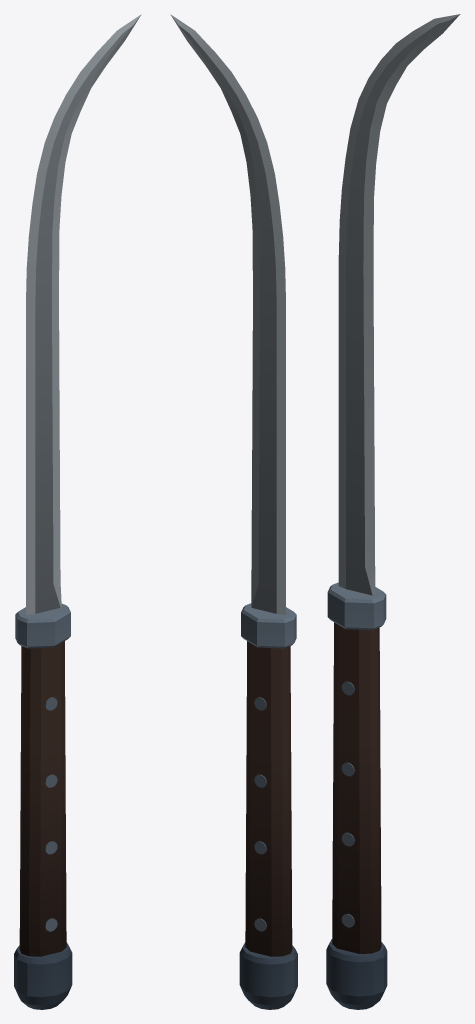
Rendered from SM_Sword06_Falx_1.fbx.
The picture shows the model from 3 angles, left to right: view 1: azimuth 30°, elevation 25°; view 2: azimuth 150°, elevation 25°; view 3: azimuth 330°, elevation 25°; orthographic projection. The views are drawn at different scales.
Visible parts, largest first — view 1: Cube.489, Cylinder.618, Sphere.167, Cylinder.617, Cylinder.619; view 2: Cube.489, Cylinder.618, Sphere.167, Cylinder.617, Cylinder.619; view 3: Cube.489, Cylinder.618, Sphere.167, Cylinder.617, Cylinder.619.
Part boxes in pixels (box(x1,y1,x2,y2)): Cube.489: box(26, 14, 141, 614); Cylinder.618: box(19, 641, 66, 956); Sphere.167: box(14, 942, 72, 1009); Cylinder.617: box(15, 603, 70, 648); Cylinder.619: box(45, 697, 57, 931); Cube.489: box(170, 14, 285, 614); Cylinder.618: box(245, 641, 292, 956); Sphere.167: box(239, 942, 297, 1009); Cylinder.617: box(241, 603, 296, 648); Cylinder.619: box(254, 697, 266, 931); Cube.489: box(338, 14, 460, 595); Cylinder.618: box(332, 622, 381, 953); Sphere.167: box(326, 939, 387, 1009); Cylinder.617: box(327, 582, 386, 630); Cylinder.619: box(341, 681, 354, 927).
Size of the model in its own units: 0.1292 by 0.9601 by 0.0472.
